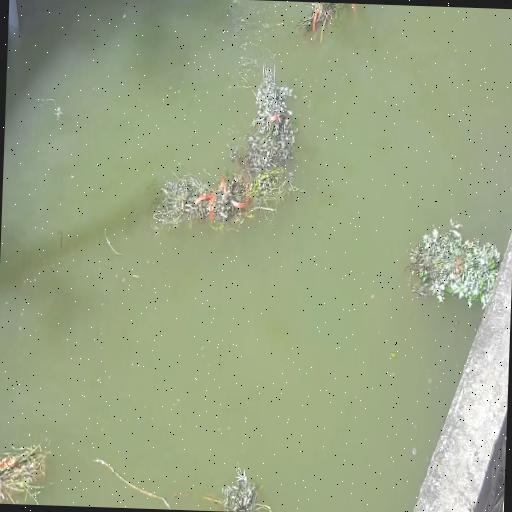twig: (152, 162, 292, 234), (406, 216, 502, 308), (240, 48, 298, 176), (202, 461, 272, 512), (0, 436, 51, 504), (293, 2, 348, 45)
